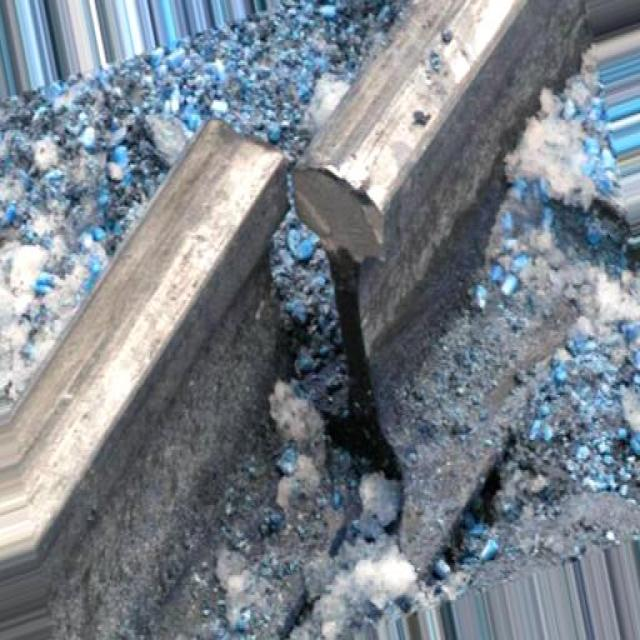crack: (142, 59, 459, 600)
